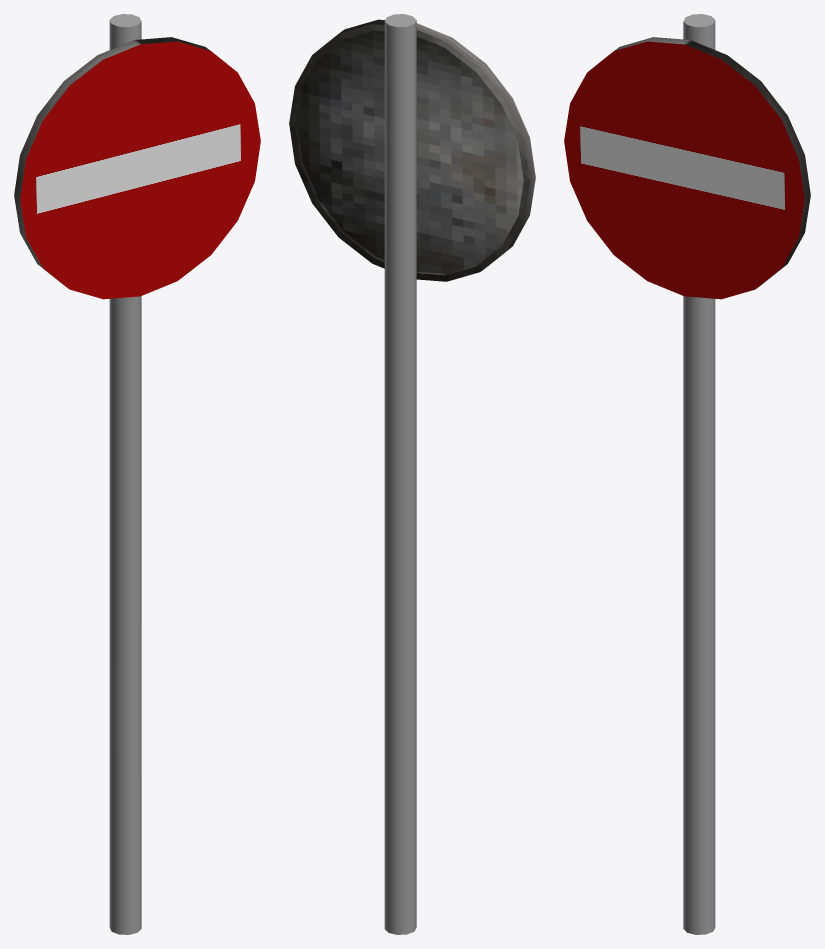
The model's file is Señal prohibido paso.fbx.
3 views of the same model, side by side, from view 1: azimuth 30°, elevation 25°; view 2: azimuth 150°, elevation 25°; view 3: azimuth 330°, elevation 25° (orthographic).
Visible parts, largest first — view 1: Señal_Redonda, Palo; view 2: Señal_Redonda, Palo; view 3: Señal_Redonda, Palo.
Part boxes in pixels (x1,y1,x2,y2): Señal_Redonda: (14, 37, 260, 299); Palo: (109, 14, 141, 934); Señal_Redonda: (289, 19, 535, 281); Palo: (384, 14, 416, 934); Señal_Redonda: (564, 37, 810, 299); Palo: (683, 14, 715, 934).
Bounding box in the file's own units: 69.4 × 250 × 11.26.
